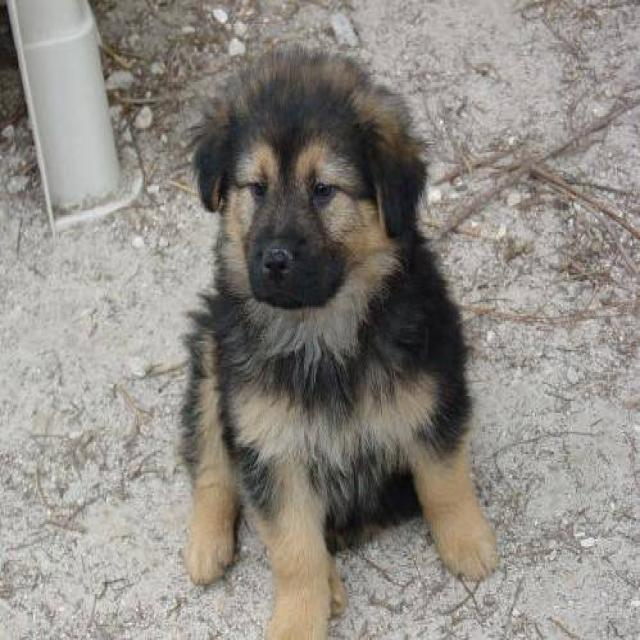dog: (176, 41, 500, 638)
